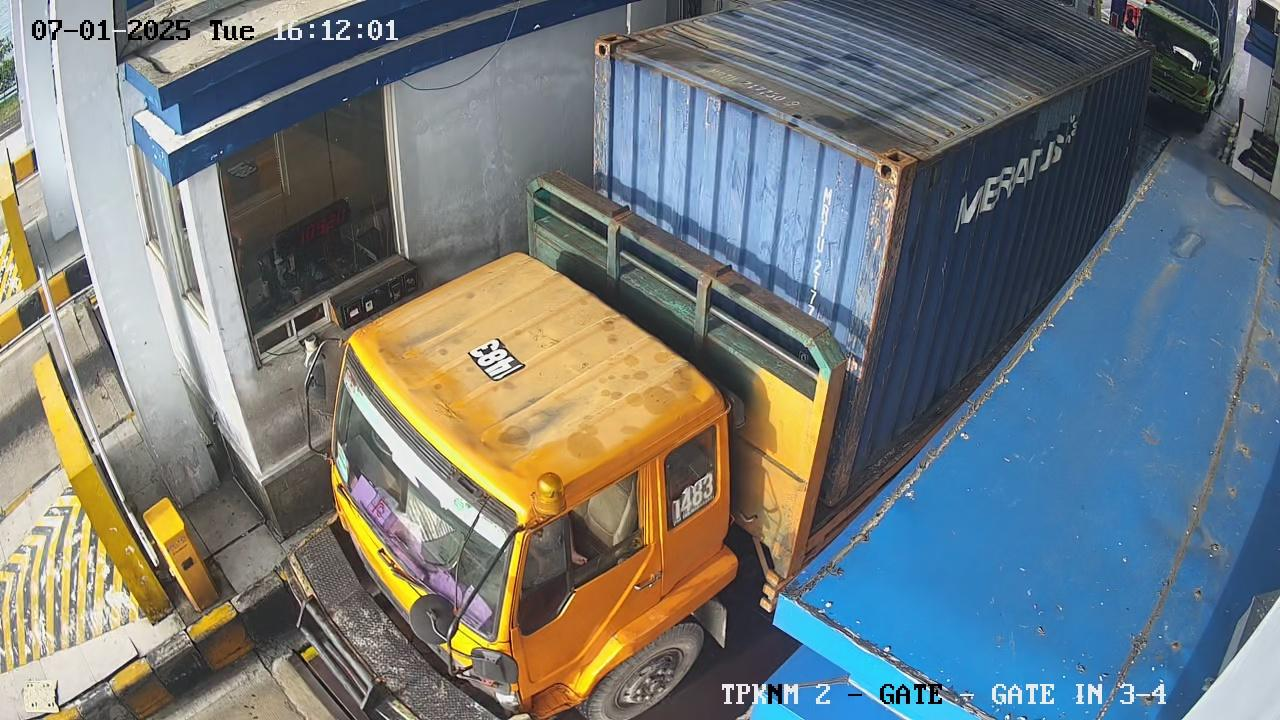Container_ID_Vertikal: (802, 185, 833, 326)
